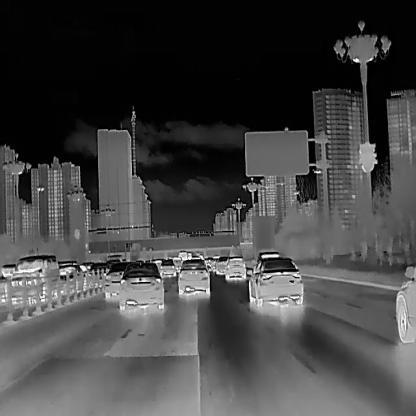car: (248, 256, 304, 306), (11, 254, 61, 301), (119, 262, 164, 310), (394, 263, 416, 342), (177, 258, 209, 294), (53, 259, 83, 292), (104, 262, 125, 300), (89, 260, 110, 290), (224, 255, 245, 280), (214, 254, 228, 275), (159, 257, 175, 275), (177, 249, 186, 259)
